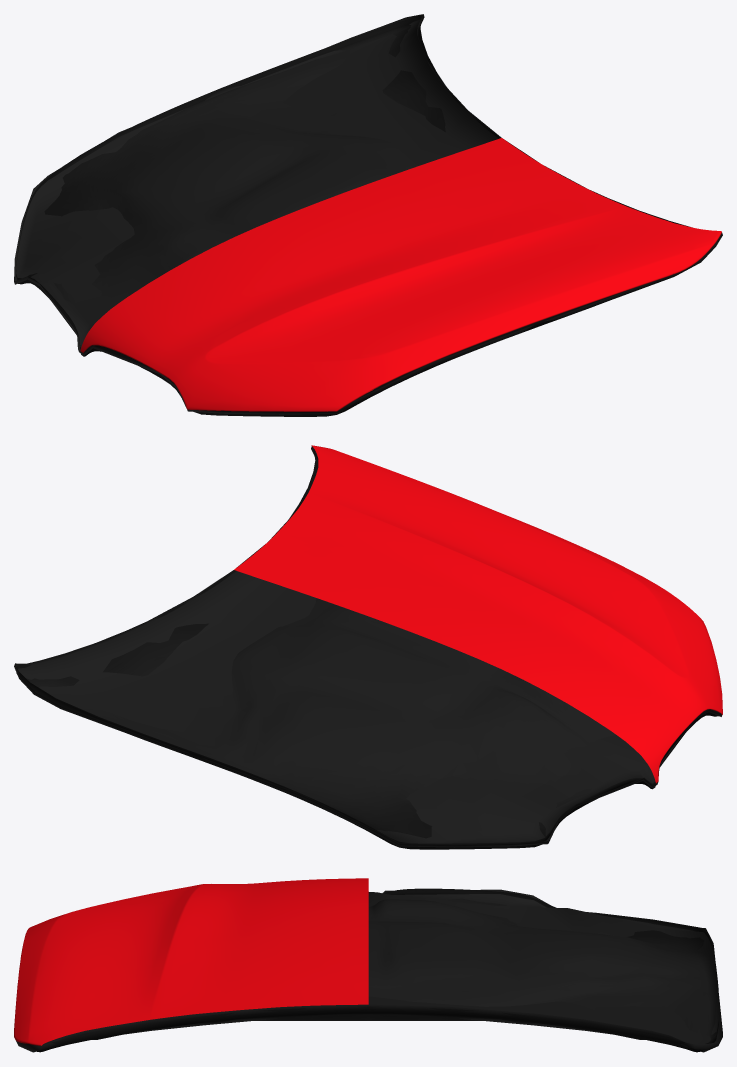
The model's file is O_G05_Hood.glb.
The picture shows the model from 3 angles, top to bottom: view 1: azimuth 30°, elevation 25°; view 2: azimuth 150°, elevation 25°; view 3: azimuth 270°, elevation 25°; orthographic projection. The views are drawn at different scales.
Visible parts, largest first — view 1: 001_Hood_paint, 002_Hood_interior, 003_Hood_void; view 2: 001_Hood_paint, 002_Hood_interior, 003_Hood_void; view 3: 001_Hood_paint, 002_Hood_interior, 003_Hood_void.
Part boxes in pixels (<box>): 001_Hood_paint: <box>80,138,721,411</box>; 002_Hood_interior: <box>16,16,692,416</box>; 003_Hood_void: <box>14,14,722,414</box>; 001_Hood_paint: <box>234,445,722,783</box>; 002_Hood_interior: <box>16,449,718,849</box>; 003_Hood_void: <box>14,446,722,847</box>; 001_Hood_paint: <box>14,878,368,1045</box>; 002_Hood_interior: <box>35,888,718,1052</box>; 003_Hood_void: <box>16,889,722,1052</box>.
Bounding box in the file's own units: 147 × 32.9 × 166.
